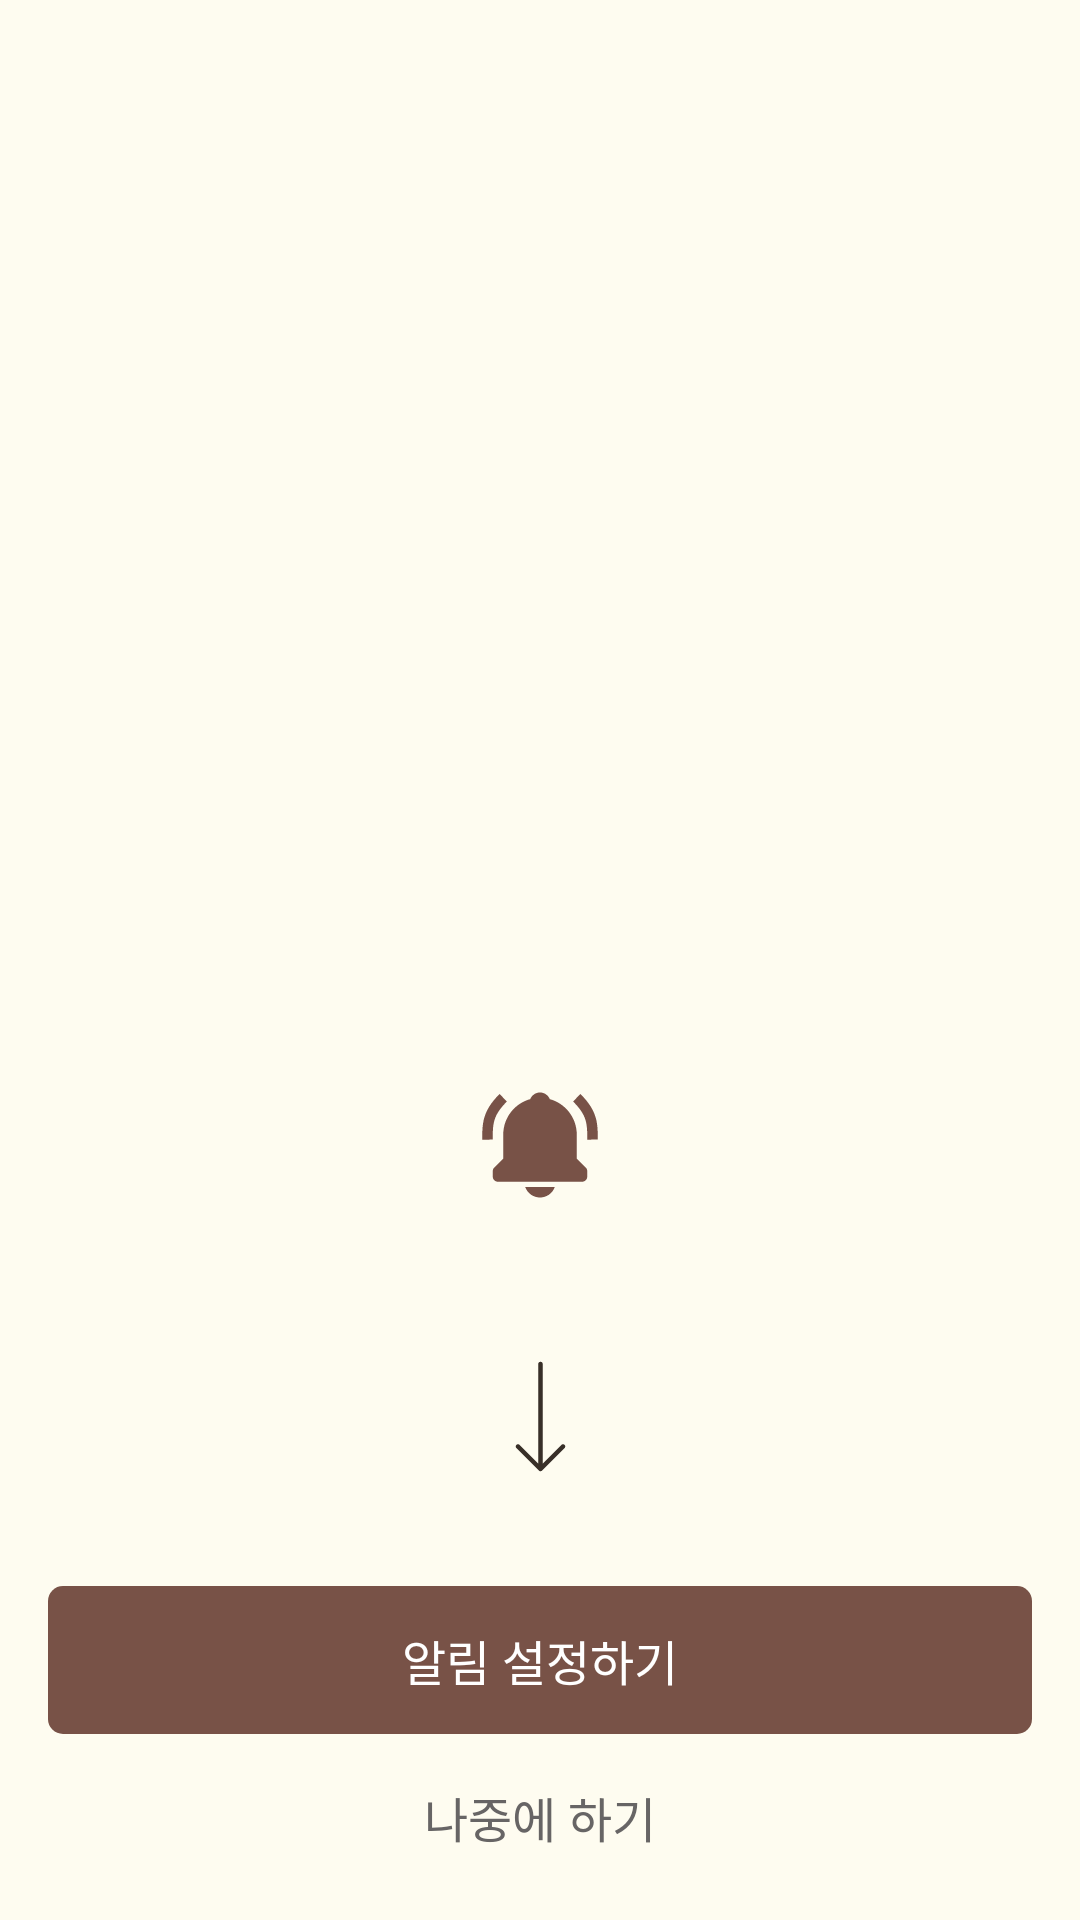

Where to tap for icons on this 1080w x 1920h app screen, as (x,y):
arrow down: (540,1416)
bell: (540,1145)
